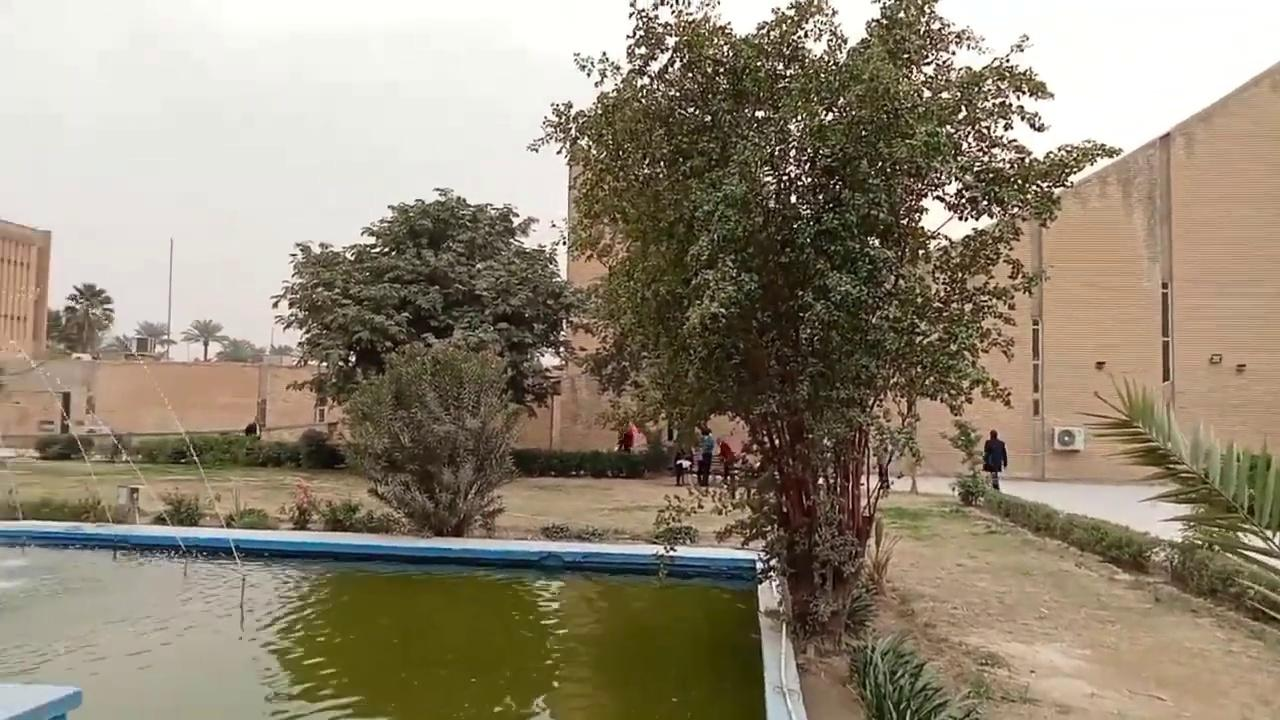fountain: (1, 519, 807, 718)
person: (983, 428, 1007, 491), (696, 427, 714, 486), (716, 436, 735, 484), (673, 447, 693, 485)
tree: (523, 0, 1123, 653), (270, 185, 591, 444), (1075, 369, 1279, 626), (339, 334, 525, 537), (842, 628, 975, 718), (57, 281, 114, 354), (180, 317, 226, 360), (133, 319, 172, 355), (217, 336, 256, 361), (45, 307, 64, 348)
